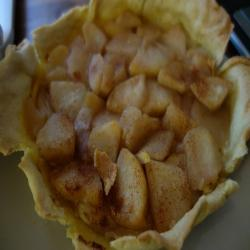apple_pie: (24, 8, 231, 243)
